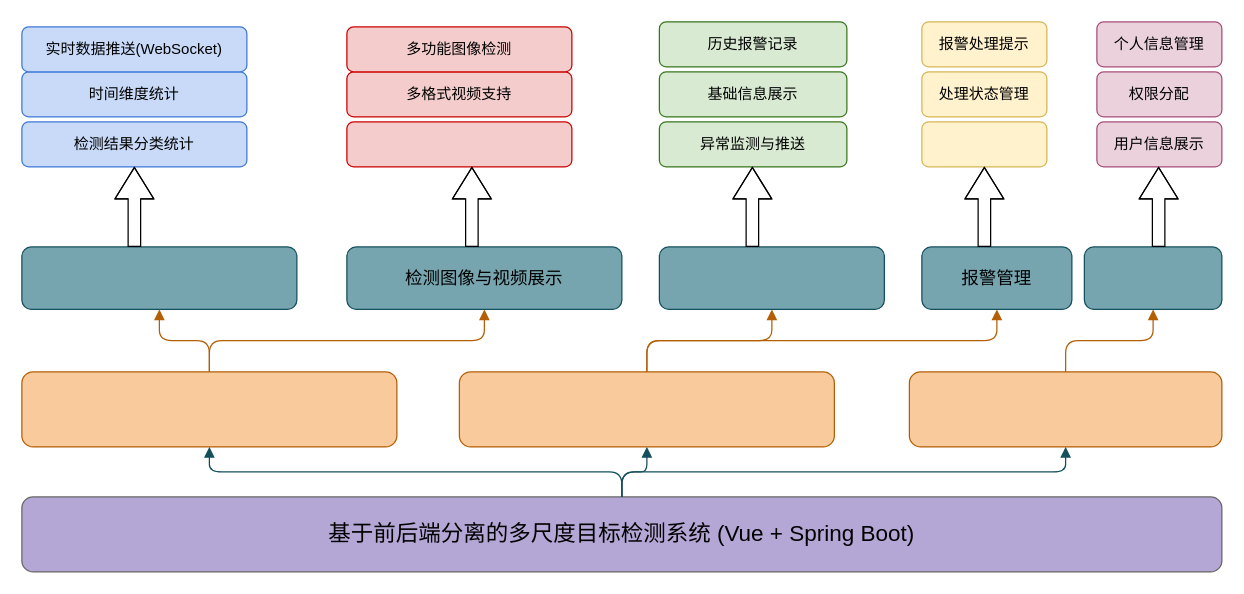
The diagram is 1244 pixels wide and 594 high, and some of its shapes have lost their labels. Each missing label, with the centre of its shape:
"实时监测与报警子系统" goes at point 646,409.
"报警信息统计" goes at point 984,144.
"数据统计与实时监测" goes at point 159,277.
"检测数据管理子系统" goes at point 209,409.
"状态监控" goes at point 771,277.
"用户与权限管理子系统" goes at point 1065,409.
"用户管理" goes at point 1152,277.
"视频流播放(Video.js)" goes at point 459,144.
